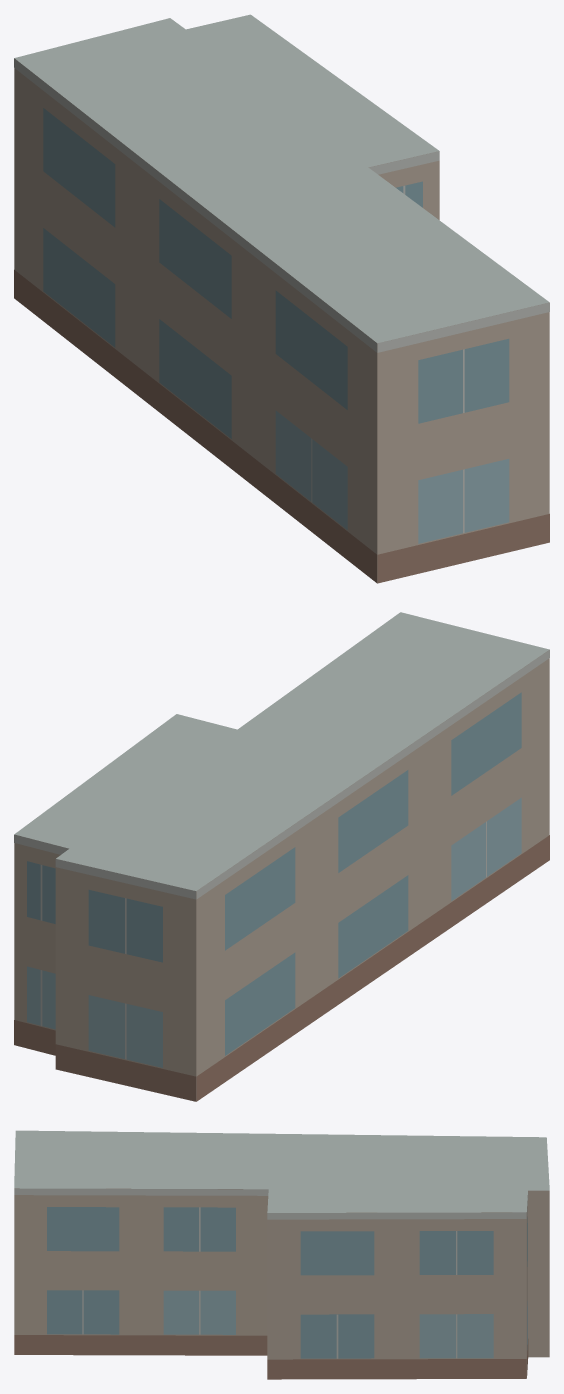
File: survey-upis-33046035.glb
3 views of the same model, one above another, from view 1: azimuth 30°, elevation 25°; view 2: azimuth 150°, elevation 25°; view 3: azimuth 270°, elevation 25° (orthographic). The views are drawn at different scales.
Parts seen in each view (by area): view 1: survey-upis-33046035.tmp; view 2: survey-upis-33046035.tmp; view 3: survey-upis-33046035.tmp.
Part boxes in pixels (box(x1,y1,x2,y2)): survey-upis-33046035.tmp: box(14, 14, 549, 583); survey-upis-33046035.tmp: box(14, 612, 549, 1101); survey-upis-33046035.tmp: box(14, 1130, 549, 1379).
Size of the model in its own units: 6.5 by 6.1 by 17.8.
